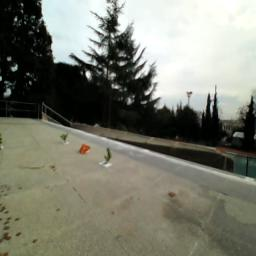herb: (105, 149, 113, 166), (61, 135, 70, 144)
wild: (80, 144, 92, 155)
